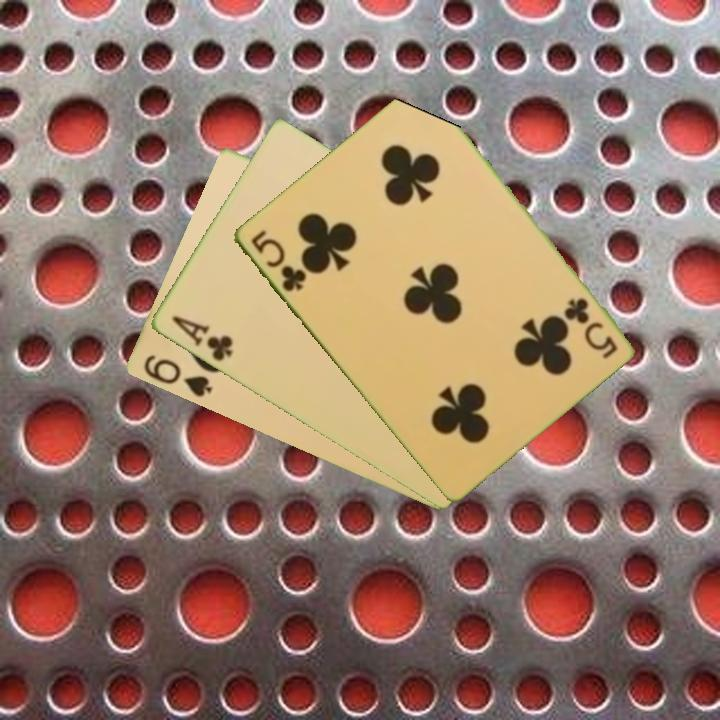5c: (246, 226, 309, 295), (561, 294, 620, 361)
6s: (139, 351, 214, 401)
Ac: (167, 312, 236, 365)
